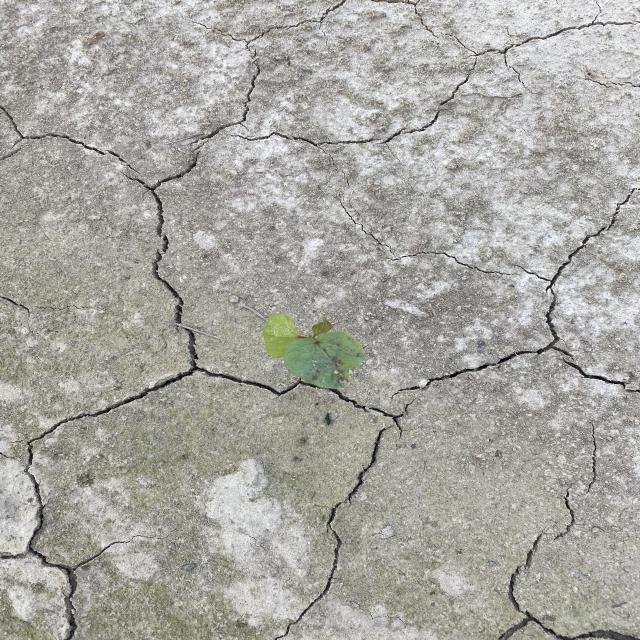MorningGlory: (261, 312, 368, 391)
